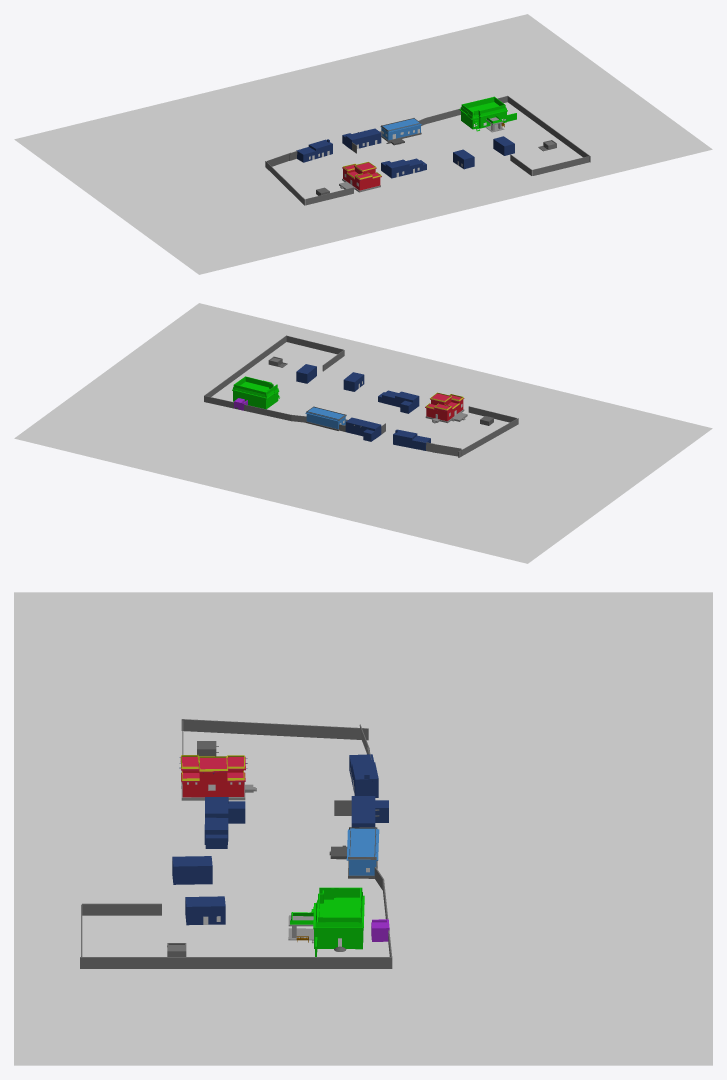
Rendered from houses.fbx.
The picture shows the model from 3 angles, top to bottom: view 1: azimuth 30°, elevation 25°; view 2: azimuth 150°, elevation 25°; view 3: azimuth 270°, elevation 25°; orthographic projection. The views are drawn at different scales.
Parts seen in each view (by area): view 1: Plane, Cube_331, ma_log Cube_11, Null4 Cube; view 2: Plane, Cube_331, ma_log Cube_11, Cube_321, Null4 Cube, Cube_29; view 3: Plane, Cube_331, Cube_29, ma_log Cube_11, Cube_222, Cube_27, Cube_351, Null_5 Null_2 Cube_17, Null_1 Cube5, Cube3, Null4 Cube.
Boxes of the visible parts, x1,y1,x2,y2 form: Plane: (14, 14, 712, 274); Cube_331: (507, 96, 590, 162); ma_log Cube_11: (381, 118, 420, 140); Null4 Cube: (345, 128, 381, 149); Plane: (14, 303, 712, 563); Cube_331: (204, 335, 286, 396); ma_log Cube_11: (306, 407, 345, 429); Cube_321: (204, 396, 291, 420); Null4 Cube: (345, 417, 381, 438); Cube_29: (458, 418, 518, 457); Plane: (14, 592, 712, 1065); Cube_331: (80, 957, 391, 968); Cube_29: (181, 719, 368, 740); ma_log Cube_11: (349, 828, 376, 875); Cube_222: (172, 856, 212, 884); Cube_27: (185, 780, 353, 925); Cube_351: (82, 903, 161, 915); Null_5 Null_2 Cube_17: (182, 774, 244, 797); Null_1 Cube5: (314, 929, 363, 949); Cube3: (352, 762, 378, 797); Null4 Cube: (351, 796, 375, 827).
Bounding box in the file's own units: 12760 × 560 × 7965.
